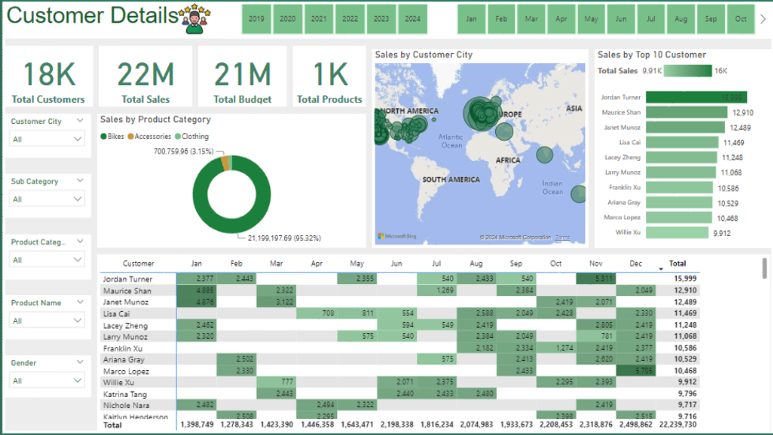

The page's visual inventory and layout, read from the dashboard file:
{"tool":"powerbi","page":{"name":"Customer Details","canvas":[1280,720],"ordinal":1},"visuals":[{"type":"donutChart","title":"Sales by Product Category","fields":{"Category":["DIM_Product.Product Category"],"Y":["Measure Table.Total Sales"]},"box":[155.5,190.1,446.4,221.8],"z":0},{"type":"textbox","box":[0,0,1280.2,64.8],"z":1000},{"type":"slicer","fields":{"Values":["DIM_Calendar.Date.Variation.Date Hierarchy.Year"]},"box":[368.6,0,358.6,64.8],"z":2000},{"type":"slicer","fields":{"Values":["DIM_Calendar.MonthShort"]},"box":[727.2,0,544.3,64.8],"z":3000},{"type":"slicer","fields":{"Values":["DIM_Customer.Customer City"]},"box":[0,189.6,146.3,73.1],"z":4000},{"type":"slicer","fields":{"Values":["DIM_Product.Sub Category"]},"box":[0,289.6,146.3,73.1],"z":5000},{"type":"slicer","fields":{"Values":["DIM_Product.Product Category"]},"box":[0,389.6,146.3,74.6],"z":6000},{"type":"slicer","fields":{"Values":["DIM_Product.Product Name"]},"box":[0,491,146.3,73.1],"z":7000},{"type":"barChart","title":"Sales by Top 10 Customer","fields":{"Category":["DIM_Customer.Full Name"],"Y":["Measure Table.Total Sales"]},"box":[980.6,82.1,299.5,329.8],"z":8000},{"type":"map","title":"Sales by Customer City","fields":{"Category":["DIM_Customer.Customer City"],"Size":["Measure Table.Total Sales"]},"box":[612,82.1,358.6,329.8],"z":9000},{"type":"pivotTable","fields":{"Rows":["DIM_Customer.Full Name"],"Columns":["DIM_Calendar.MonthShort"],"Values":["Measure Table.Total Sales"]},"box":[155.2,422.4,1116.4,297],"z":10000},{"type":"slicer","fields":{"Values":["DIM_Customer.Gender"]},"box":[0,591,146.3,70.1],"z":11000},{"type":"card","fields":{"Values":["Measure Table.Total Sales"]},"box":[158.7,77.6,155.2,101.5],"z":12000},{"type":"card","fields":{"Values":["Measure Table.Total Budget"]},"box":[324,77.8,146.9,100.8],"z":13000},{"type":"card","fields":{"Values":["Measure Table.Customers"]},"box":[0,77.6,149.3,101.5],"z":14000},{"type":"card","fields":{"Values":["Measure Table.Producta"]},"box":[481,77.8,121,100.8],"z":15000},{"type":"image","box":[276.1,0,82.1,64.2],"z":16000}]}

Visuals, with their boxes in screenshot pixels (x1, y1, x2, y2), scaled from the page's 1280x720 canvas onto the 773x435 screenshot:
"Sales by Product Category" donutChart: (94, 115, 363, 249)
textbox: (0, 0, 772, 39)
slicer - DIM_Calendar.Date.Variation.Date Hierarchy.Year: (223, 0, 439, 39)
slicer - DIM_Calendar.MonthShort: (439, 0, 768, 39)
slicer - DIM_Customer.Customer City: (0, 115, 88, 159)
slicer - DIM_Product.Sub Category: (0, 175, 88, 219)
slicer - DIM_Product.Product Category: (0, 235, 88, 280)
slicer - DIM_Product.Product Name: (0, 297, 88, 341)
"Sales by Top 10 Customer" barChart: (592, 50, 772, 249)
"Sales by Customer City" map: (370, 50, 586, 249)
pivotTable - DIM_Customer.Full Name x DIM_Calendar.MonthShort: (94, 255, 768, 434)
slicer - DIM_Customer.Gender: (0, 357, 88, 399)
card - Measure Table.Total Sales: (96, 47, 190, 108)
card - Measure Table.Total Budget: (196, 47, 284, 108)
card - Measure Table.Customers: (0, 47, 90, 108)
card - Measure Table.Producta: (290, 47, 364, 108)
image: (167, 0, 216, 39)
